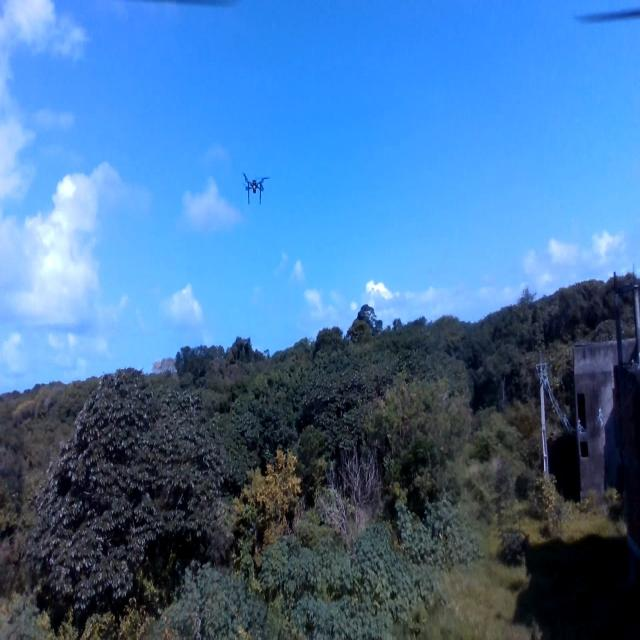-uav-: (234, 161, 277, 215)
